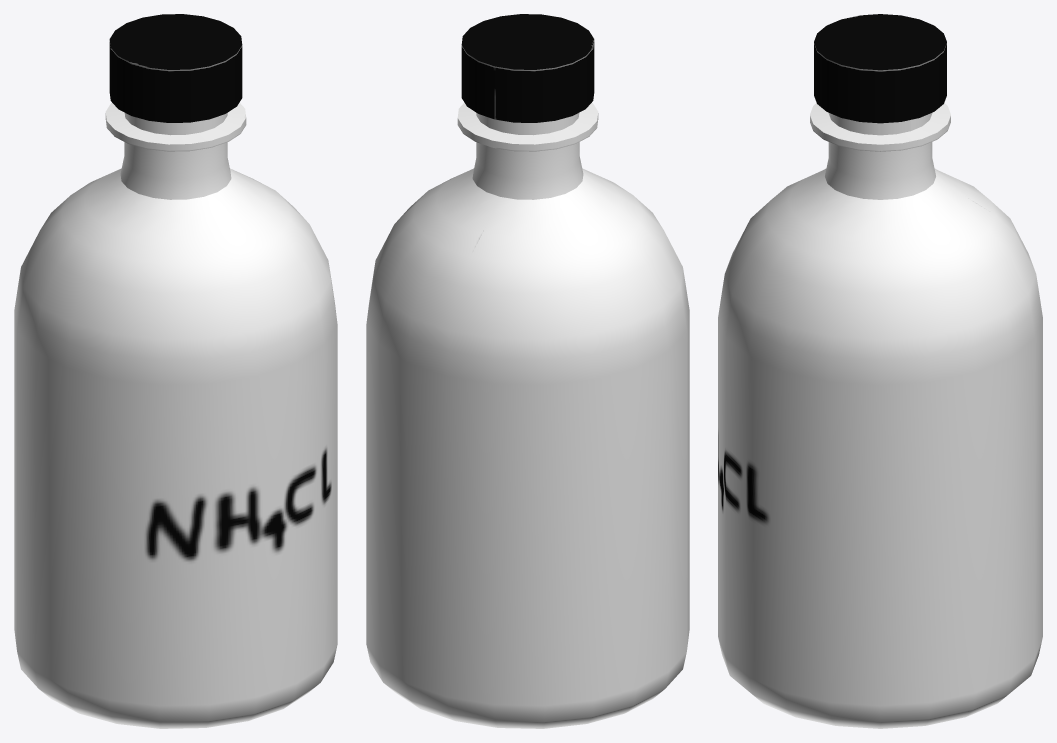
The model's file is Ammonium Chloride.fbx.
3 views of the same model, side by side, from view 1: azimuth 30°, elevation 25°; view 2: azimuth 150°, elevation 25°; view 3: azimuth 270°, elevation 25° (orthographic).
Parts seen in each view (by area): view 1: Ammonium_Chloride1; view 2: Ammonium_Chloride1; view 3: Ammonium_Chloride1.
Boxes of the visible parts, bbox=[...] form: Ammonium_Chloride1: bbox=[14, 14, 337, 728]; Ammonium_Chloride1: bbox=[366, 14, 689, 728]; Ammonium_Chloride1: bbox=[718, 14, 1042, 728].
Bounding box in the file's own units: 0.6612 × 1.41 × 0.6612.
1 material, 1 textured.
